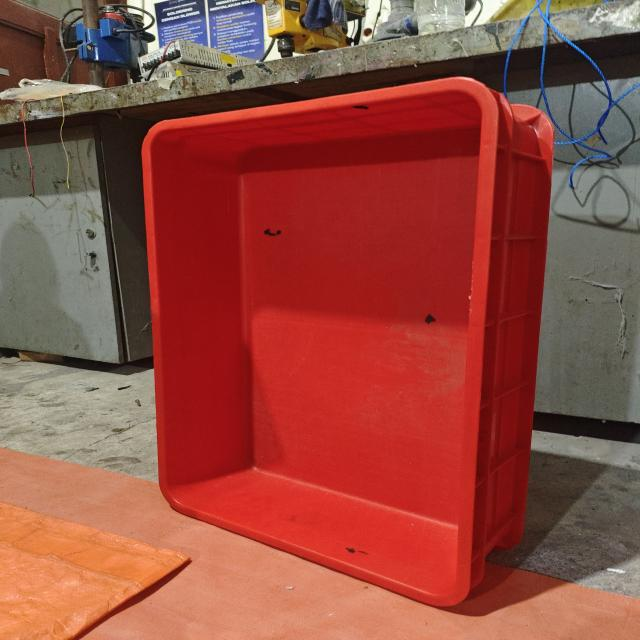red plastic box: (141, 76, 555, 608)
